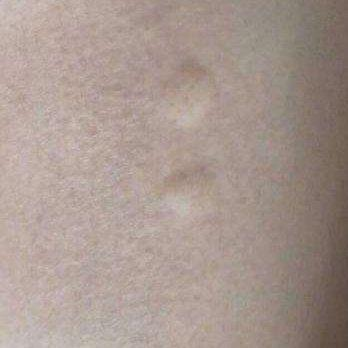Mosquito: (151, 156, 225, 229), (167, 61, 214, 129)
